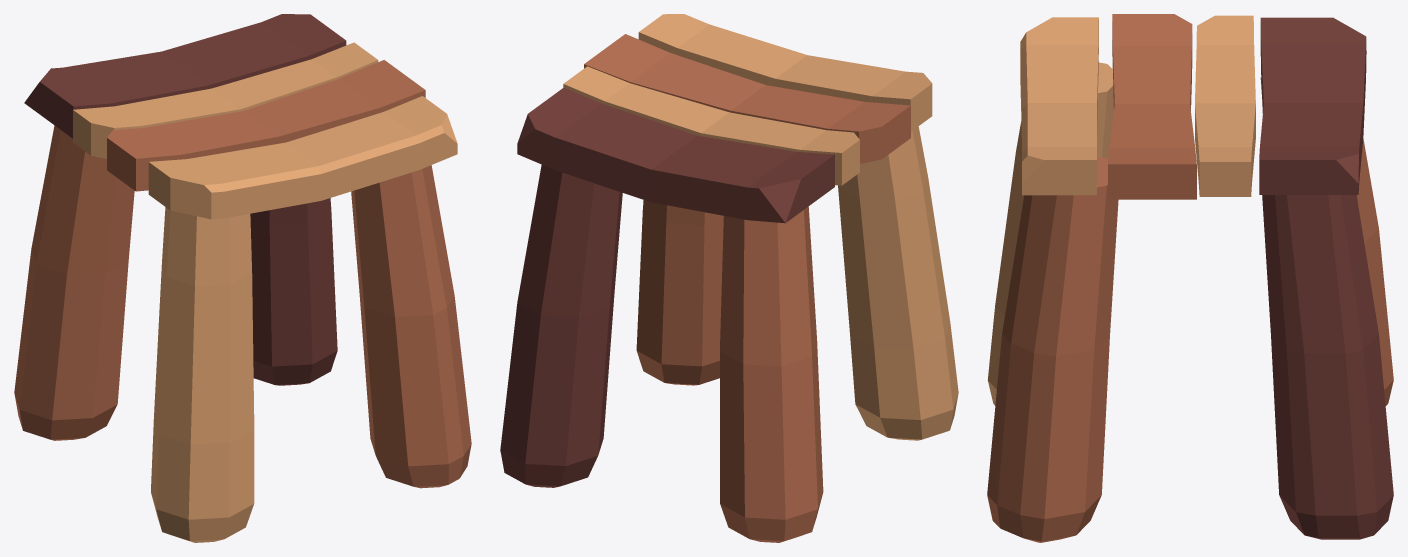
The model's file is Chair 01.fbx.
3 renders of one model, left to right at view 1: azimuth 30°, elevation 25°; view 2: azimuth 150°, elevation 25°; view 3: azimuth 270°, elevation 25°, orthographic. The views are drawn at different scales.
Visible parts, largest first — view 1: Chair 01; view 2: Chair 01; view 3: Chair 01.
Boxes of the visible parts, x1,y1,x2,y2 form: Chair 01: (14, 14, 471, 542); Chair 01: (500, 14, 958, 542); Chair 01: (987, 14, 1393, 542).
Bounding box in the file's own units: 47.75 × 52.17 × 50.22.
